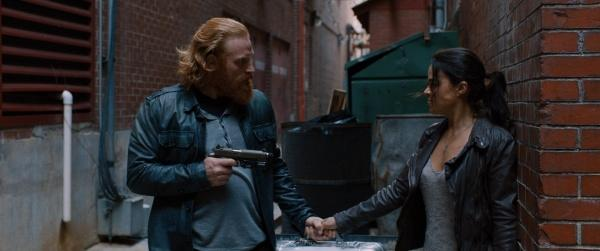Gun: (209, 144, 273, 170)
